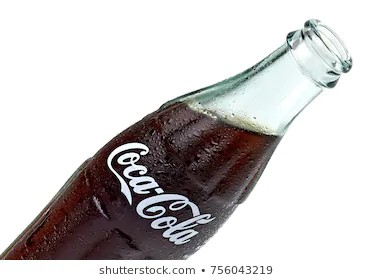coke-glass-bottle: (3, 24, 351, 259)
